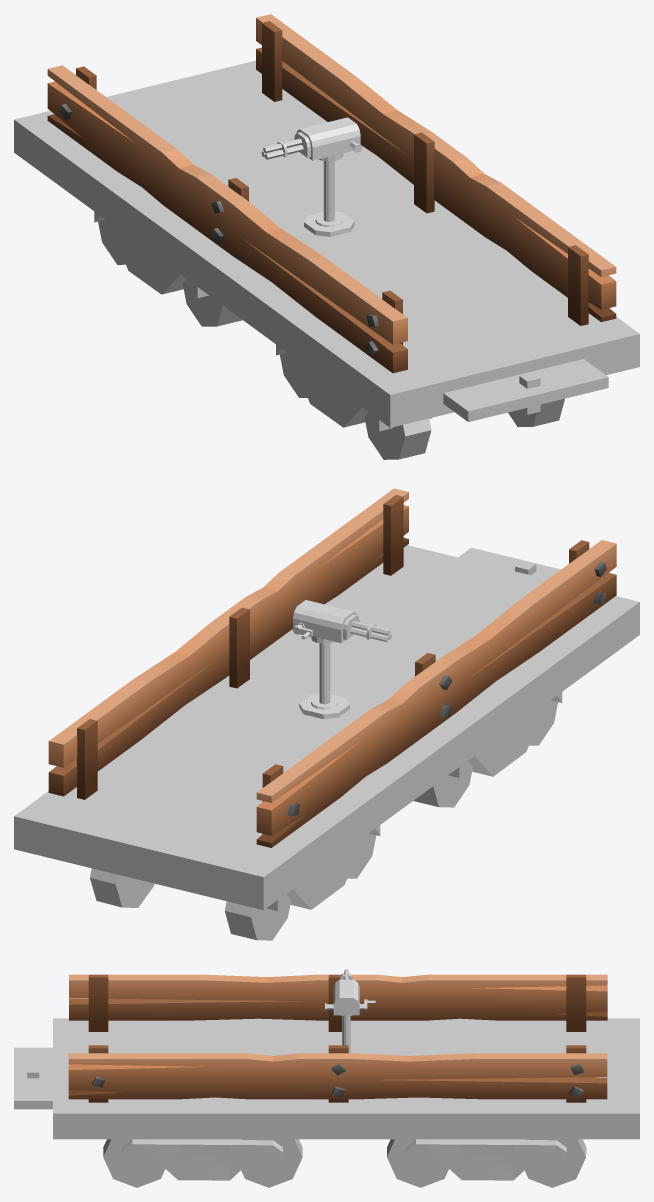
The model's file is Torreta_Gatling.fbx.
The picture shows the model from 3 angles, top to bottom: view 1: azimuth 30°, elevation 25°; view 2: azimuth 150°, elevation 25°; view 3: azimuth 270°, elevation 25°; orthographic projection. The views are drawn at different scales.
Parts seen in each view (by area): view 1: Floor, Floor.001; view 2: Floor, Floor.001; view 3: Floor, Floor.001.
Boxes of the visible parts, left/top/right/bottom form: Floor: left=14, top=14, right=639, bottom=459; Floor.001: left=261, top=117, right=362, bottom=236; Floor: left=14, top=488, right=639, bottom=940; Floor.001: left=292, top=600, right=392, bottom=719; Floor: left=14, top=974, right=639, bottom=1187; Floor.001: left=325, top=969, right=375, bottom=1053.
Bounding box in the file's own units: 341 × 281 × 949.
